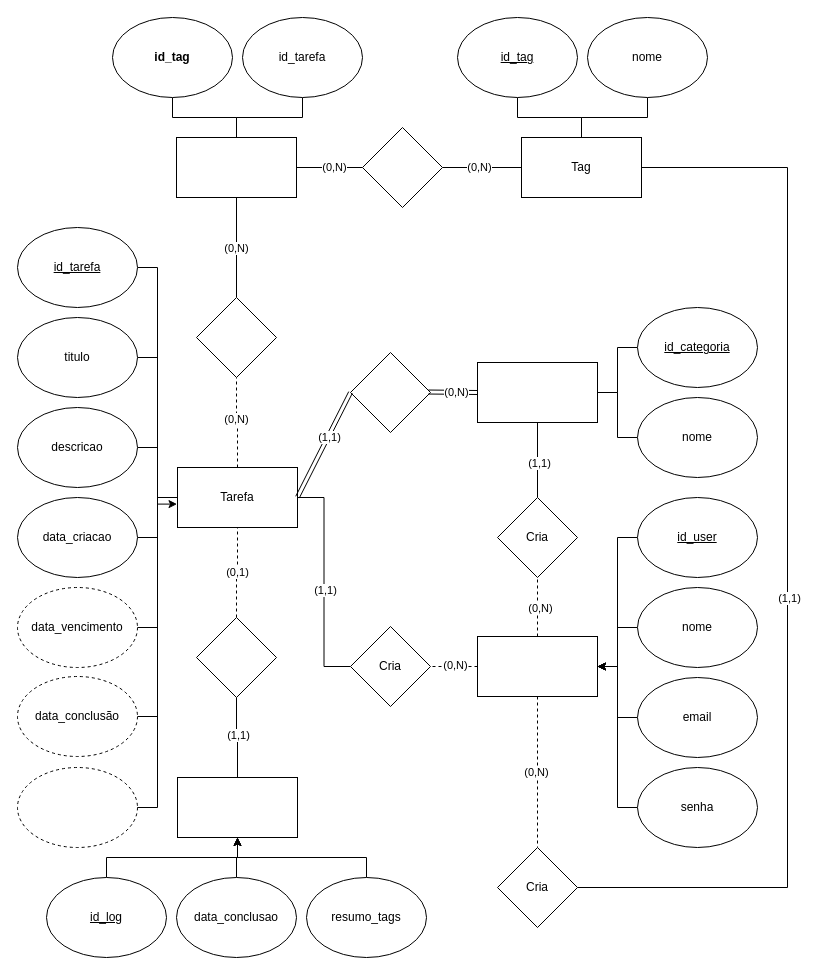
This 818x975 diagram has some shape labels left out. The shapes that lost their labels are listed below. From the top down, each one's box as (x1, y1, x2, y2) in pixels, then its label:
(176, 136, 296, 198): TarefaTag
(362, 126, 442, 208): Compoe
(196, 296, 276, 378): Tem
(350, 352, 430, 432): Pertence
(476, 362, 598, 422): Categoria
(196, 616, 276, 698): Gera
(476, 636, 598, 696): Usuario
(16, 766, 138, 848): status
(176, 776, 298, 838): LogConclusao
